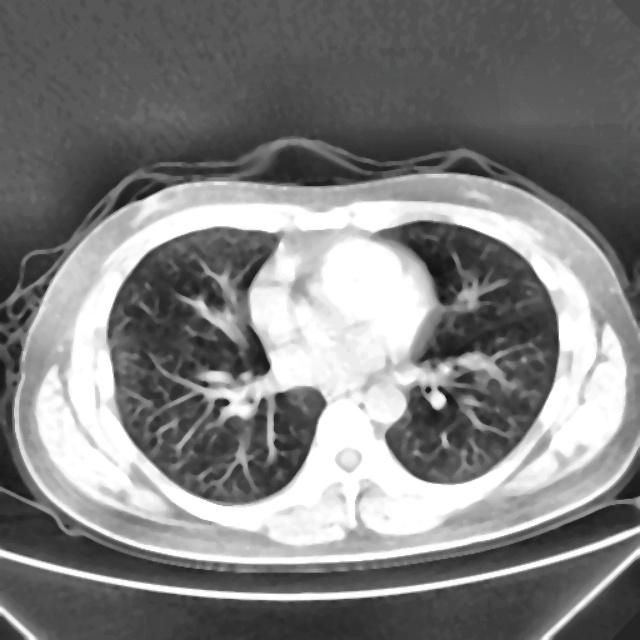covid: (2, 140, 638, 573)
